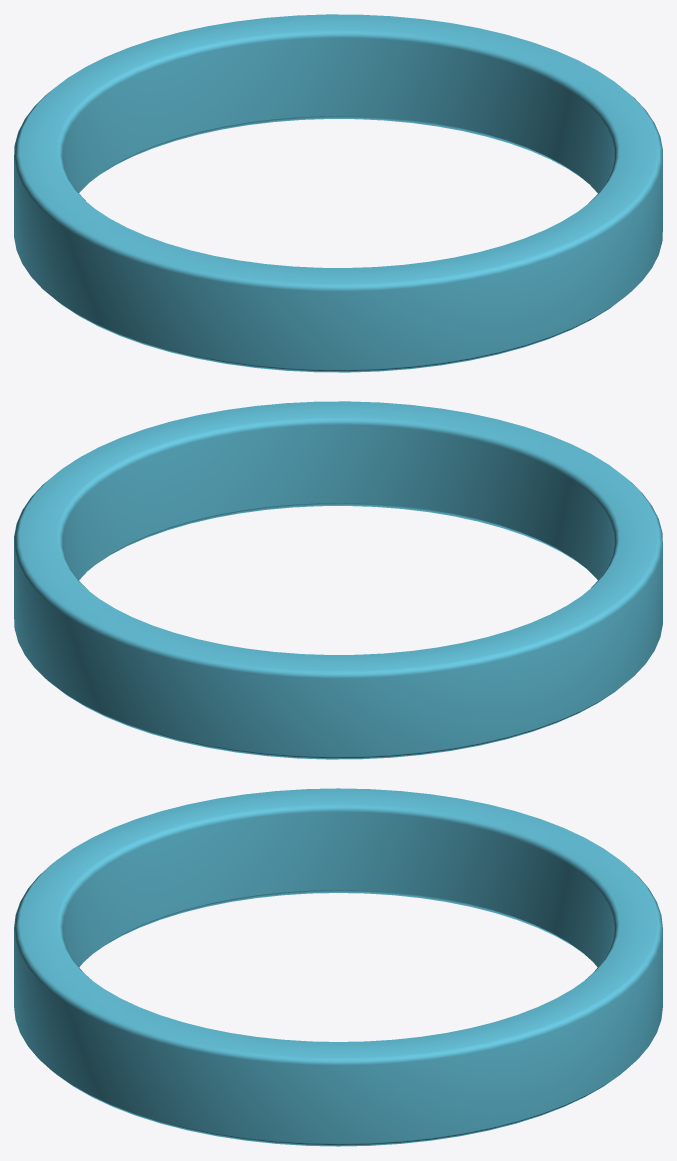
3 renders of one model, top to bottom at view 1: azimuth 30°, elevation 25°; view 2: azimuth 150°, elevation 25°; view 3: azimuth 270°, elevation 25°, orthographic.
Visible parts, largest first — view 1: seal_body; view 2: seal_body; view 3: seal_body.
Part boxes in pixels (<box>): seal_body: <box>14,14,662,372</box>; seal_body: <box>14,401,662,759</box>; seal_body: <box>14,788,662,1146</box>.
Bounding box in the file's own units: 0.053 × 0.008 × 0.053.
